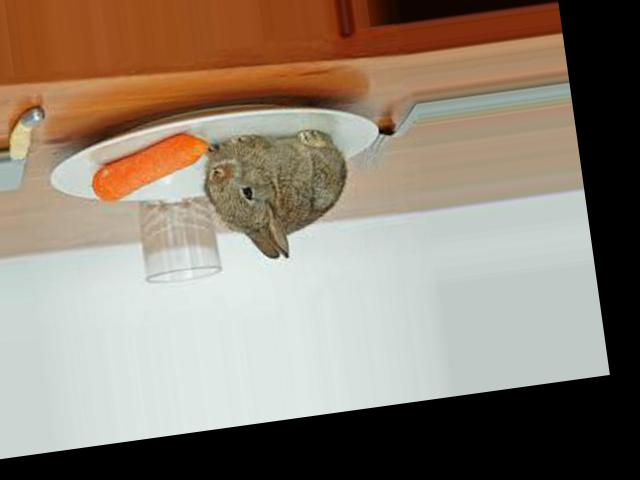carrot: (76, 122, 220, 208)
